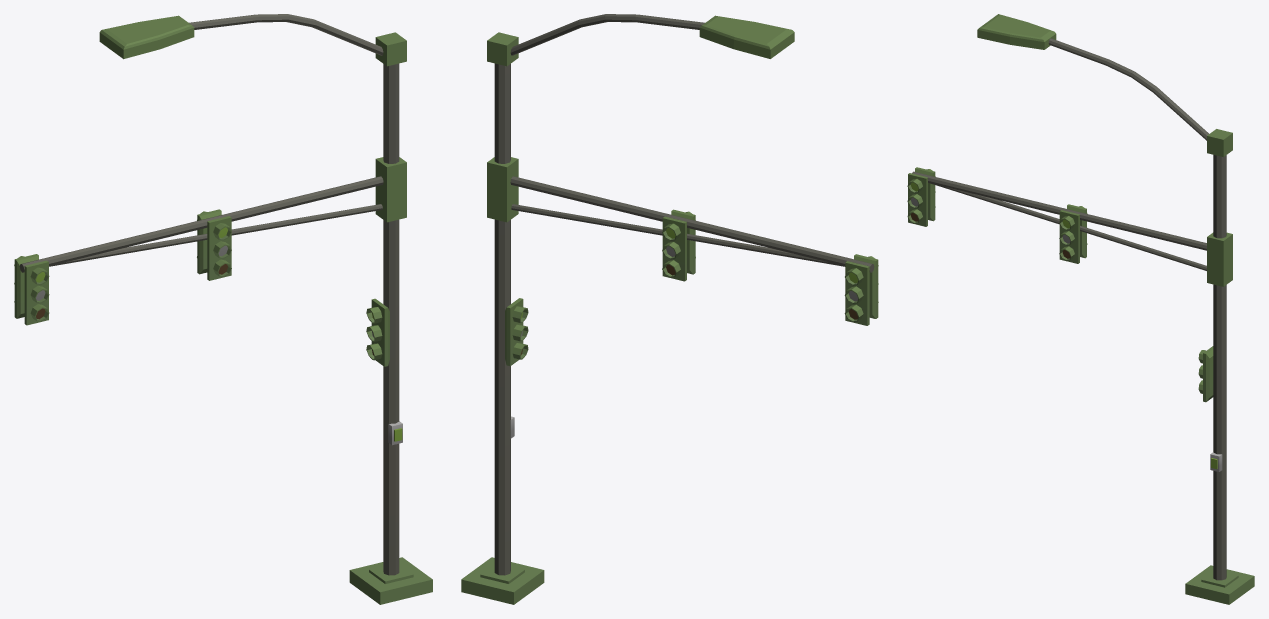
File: Light_02.fbx
The picture shows the model from 3 angles, left to right: view 1: azimuth 30°, elevation 25°; view 2: azimuth 150°, elevation 25°; view 3: azimuth 330°, elevation 25°; orthographic projection. The views are drawn at different scales.
Parts seen in each view (by area): view 1: Light_02; view 2: Light_02; view 3: Light_02.
Part boxes in pixels (<box>): Light_02: <box>14,14,432,604</box>; Light_02: <box>461,14,878,604</box>; Light_02: <box>907,14,1254,604</box>.
Bounding box in the file's own units: 3.13 × 4.66 × 0.4156.
